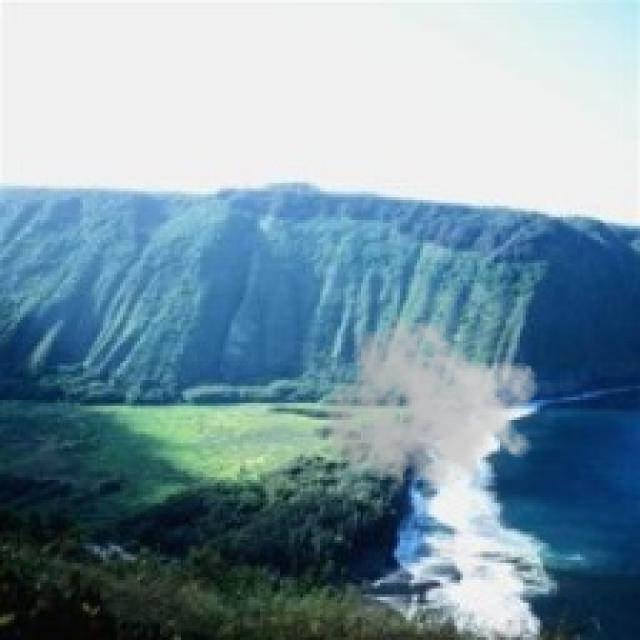smoke: (323, 308, 540, 512)
